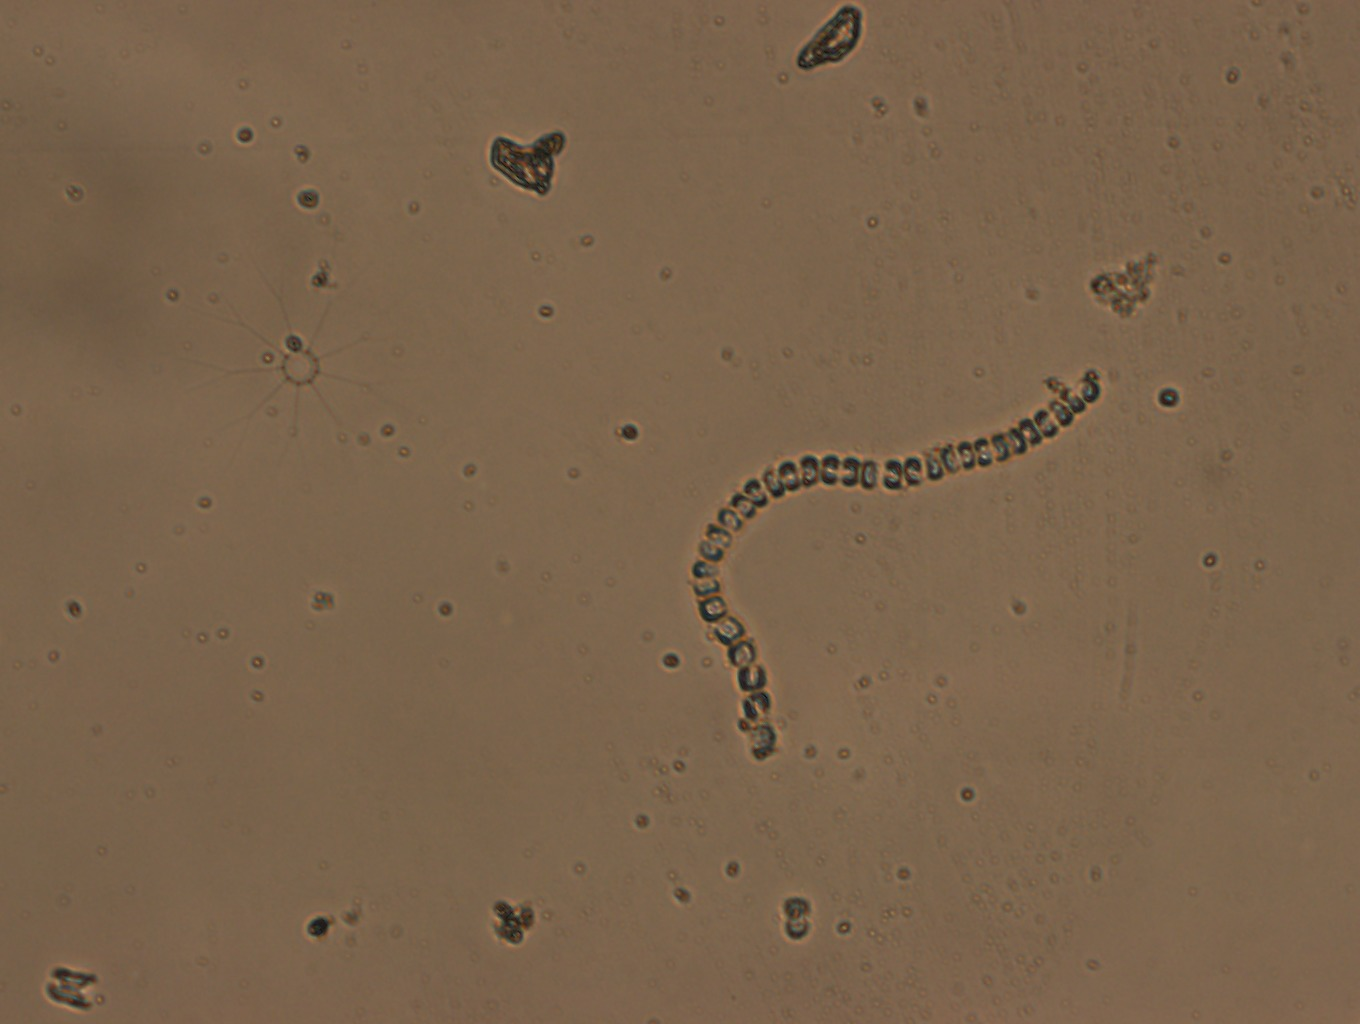bacteriastrum: (175, 221, 427, 493)
